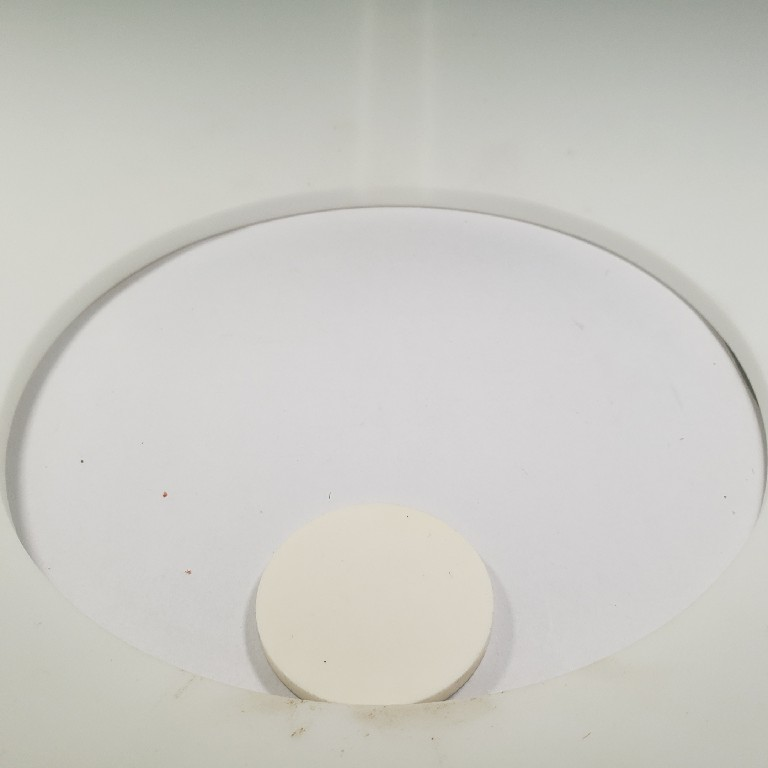ceramics: (248, 496, 501, 716)
